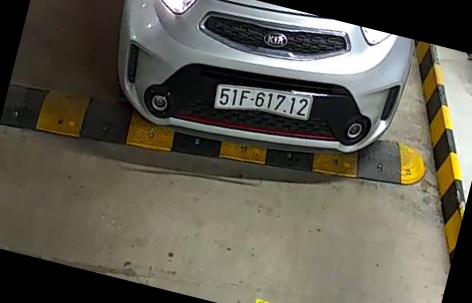plate: (218, 83, 315, 124)
